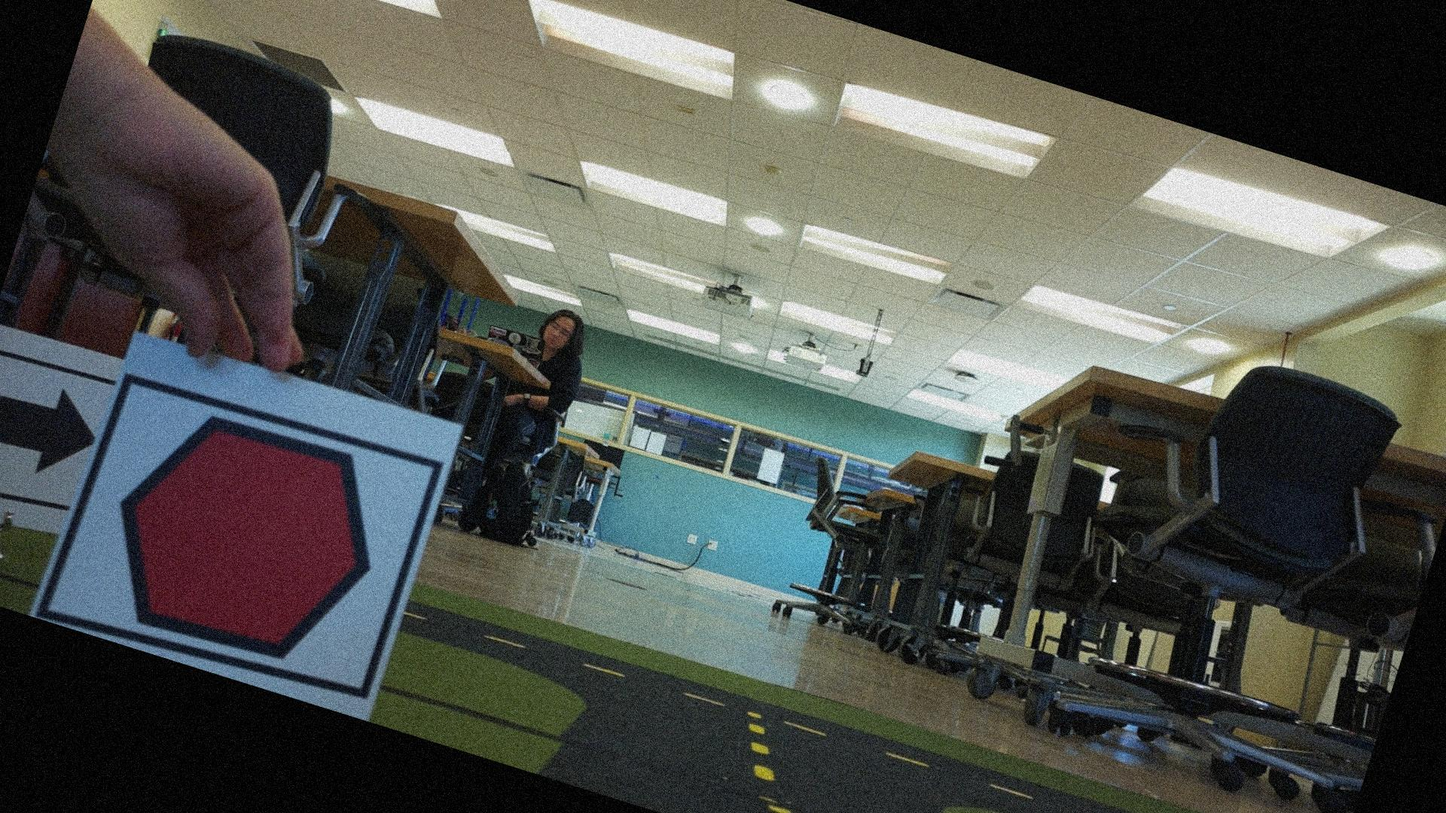stop: (71, 377, 423, 702)
turnright: (0, 351, 109, 509)
yellowline: (718, 721, 837, 812)
